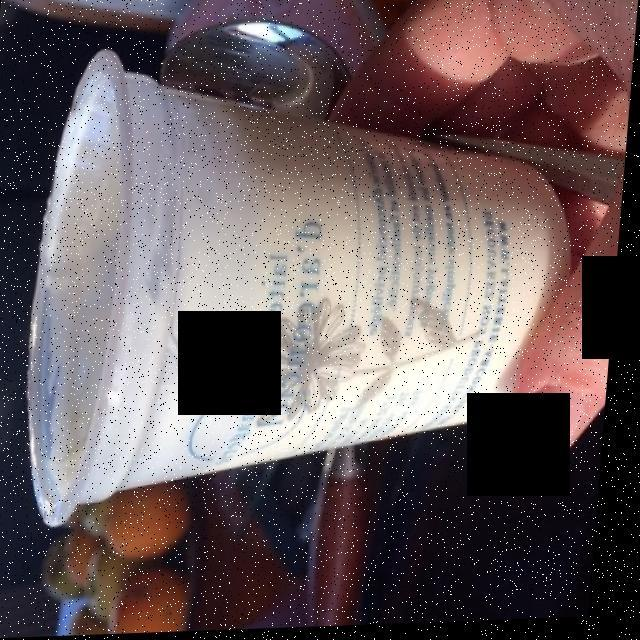yogurt: (84, 117, 538, 478)
